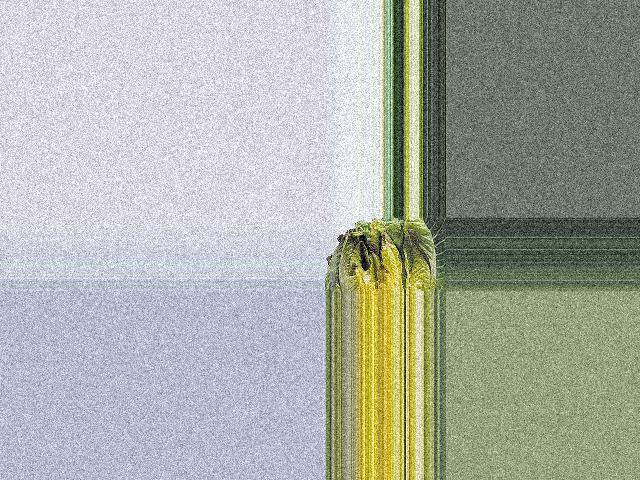lettuce: (329, 220, 446, 292)
